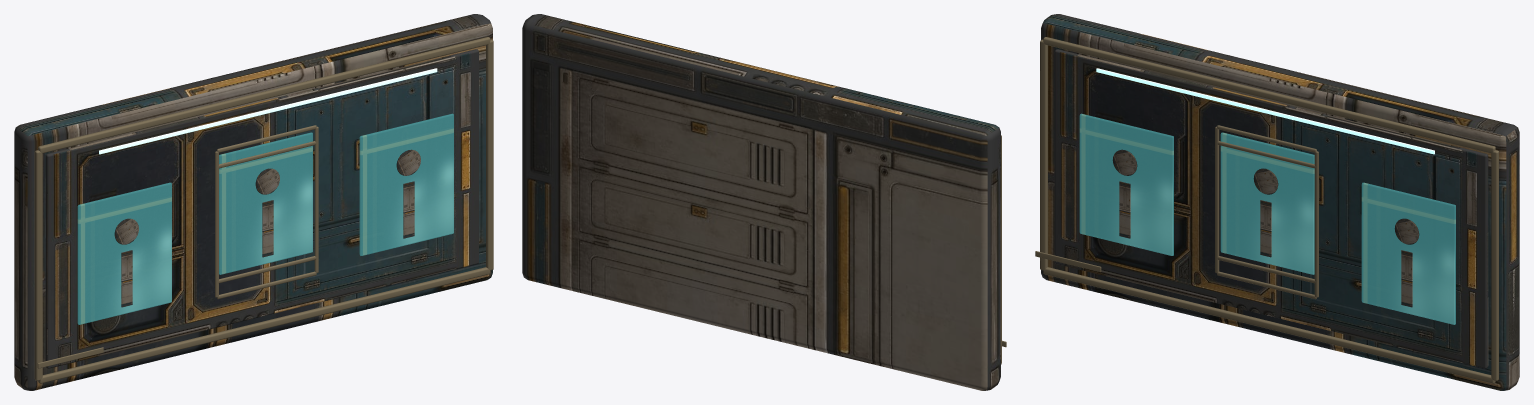
File: hp_room_fake_family_photo_wall.glb
3 views of the same model, side by side, from view 1: azimuth 30°, elevation 25°; view 2: azimuth 150°, elevation 25°; view 3: azimuth 330°, elevation 25° (orthographic).
Parts seen in each view (by area): view 1: cool_gray_inner_wall_face, wall_mount_backplate, image2_false_family_photo_panel_0, image2_false_family_photo_panel_2, image2_false_family_photo_panel_1, outer_memory_frame_top, outer_memory_frame_bottom, outer_memory_frame_left, outer_memory_frame_right, thin_cyan_top_scanline, abstract_body_marker_0, abstract_body_marker_1 (+11 smaller); view 2: wall_mount_backplate; view 3: cool_gray_inner_wall_face, wall_mount_backplate, image2_false_family_photo_panel_2, image2_false_family_photo_panel_0, image2_false_family_photo_panel_1, outer_memory_frame_top, outer_memory_frame_bottom, outer_memory_frame_right, outer_memory_frame_left, thin_cyan_top_scanline, abstract_body_marker_0, abstract_body_marker_2 (+11 smaller).
Part boxes in pixels (x1,y1,x2,y2): cool_gray_inner_wall_face: (45,49,478,368); wall_mount_backplate: (14,14,492,390); image2_false_family_photo_panel_0: (77,182,171,324); image2_false_family_photo_panel_2: (359,113,453,255); image2_false_family_photo_panel_1: (219,132,312,274); outer_memory_frame_top: (38,37,490,153); outer_memory_frame_bottom: (38,267,490,383); outer_memory_frame_left: (34,150,42,380); outer_memory_frame_right: (486,39,493,270); thin_cyan_top_scanline: (99,68,437,154); abstract_body_marker_0: (121,250,132,307); abstract_body_marker_1: (262,200,273,257); wall_mount_backplate: (522,14,1000,390); cool_gray_inner_wall_face: (1054,49,1488,368); wall_mount_backplate: (1041,14,1519,390); image2_false_family_photo_panel_2: (1361,182,1455,324); image2_false_family_photo_panel_0: (1079,113,1173,255); image2_false_family_photo_panel_1: (1220,132,1314,274); outer_memory_frame_top: (1043,37,1495,153); outer_memory_frame_bottom: (1043,267,1495,383); outer_memory_frame_right: (1491,150,1498,380); outer_memory_frame_left: (1040,39,1047,270); thin_cyan_top_scanline: (1096,68,1434,154); abstract_body_marker_0: (1119,181,1130,238); abstract_body_marker_2: (1401,250,1412,307).
Bounding box in the file's own units: 3.17 × 1.68 × 0.2696.
Materials: 5 (3 with a texture image).
